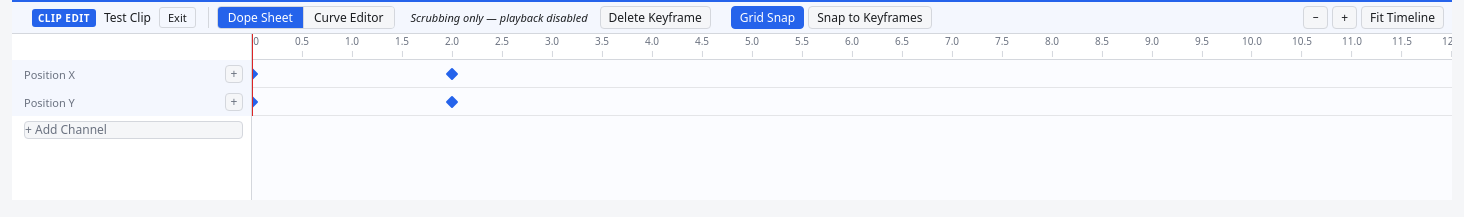
Test: Clip-edit curve editor toggle › renders clip channel curves in curve editor view
Check: the text "Clip Edit" is shown, box [32, 8, 96, 26]
Click the button "Curve Editor".
click(349, 18)  # box [304, 7, 394, 28]
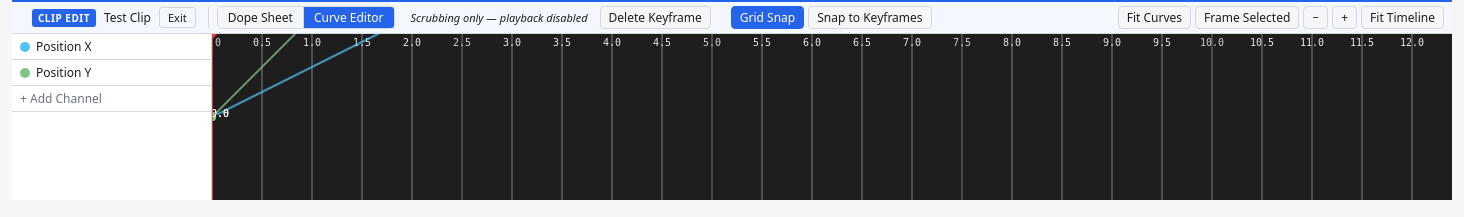
Check: the text "Position X" is shown, box [36, 38, 92, 55]
Check: the element with class "curve-editor-panel" is shown
